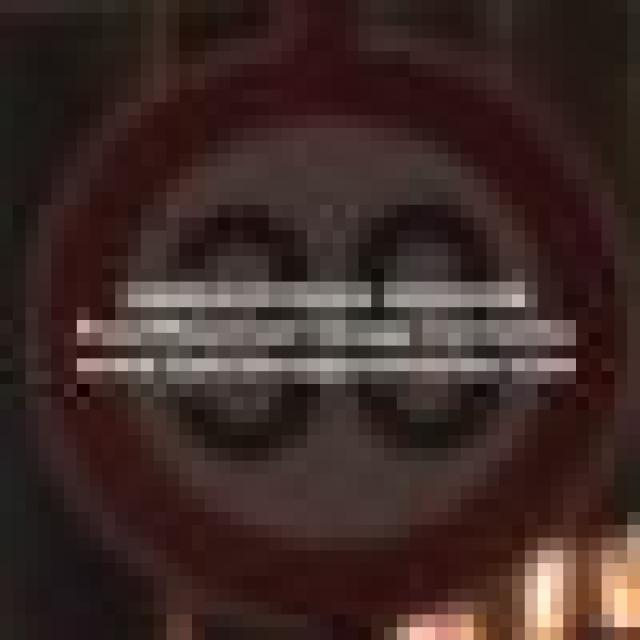SPEED_LIMIT_30: (26, 26, 602, 627)
